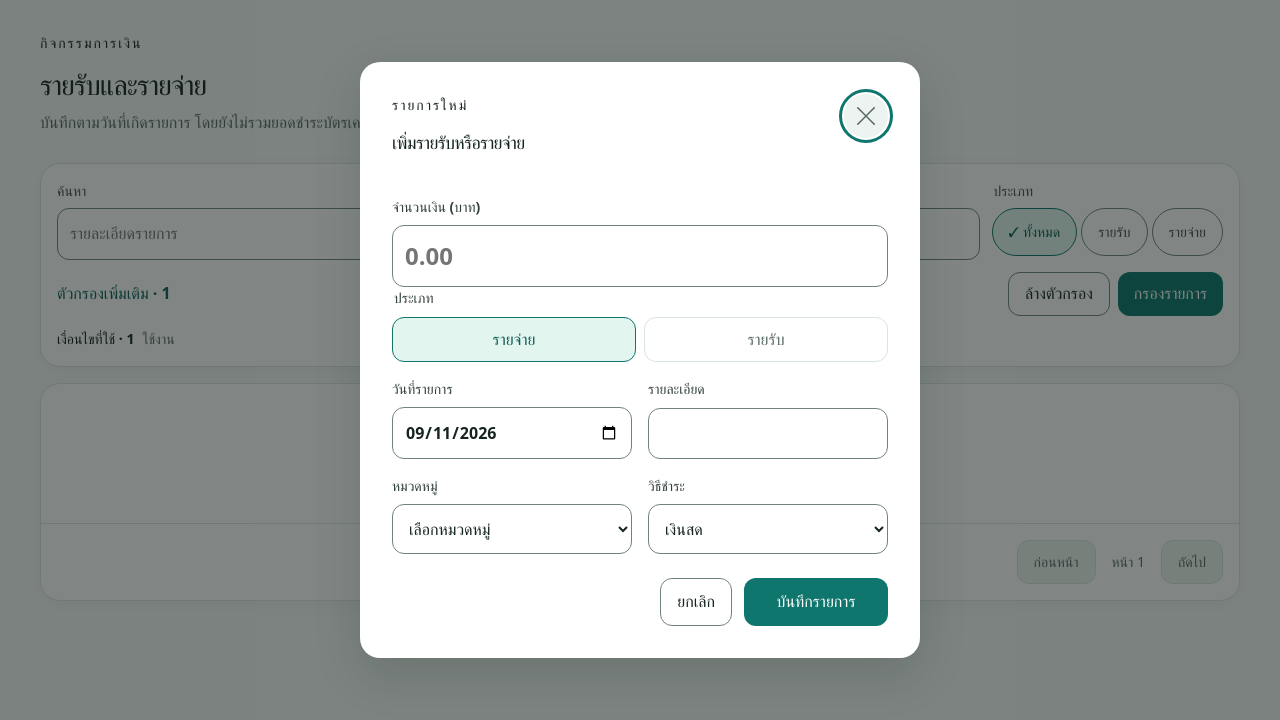
Test: finance pages › renders responsive transaction semantics and opens the focused form
Expected: the dialog "เพิ่มรายรับหรือรายจ่าย" is shown, [360, 62, 920, 658]
Select "บัตรเครดิต" in the dropdown labelled "วิธีชำระ" at [768, 529], box [648, 504, 888, 554]
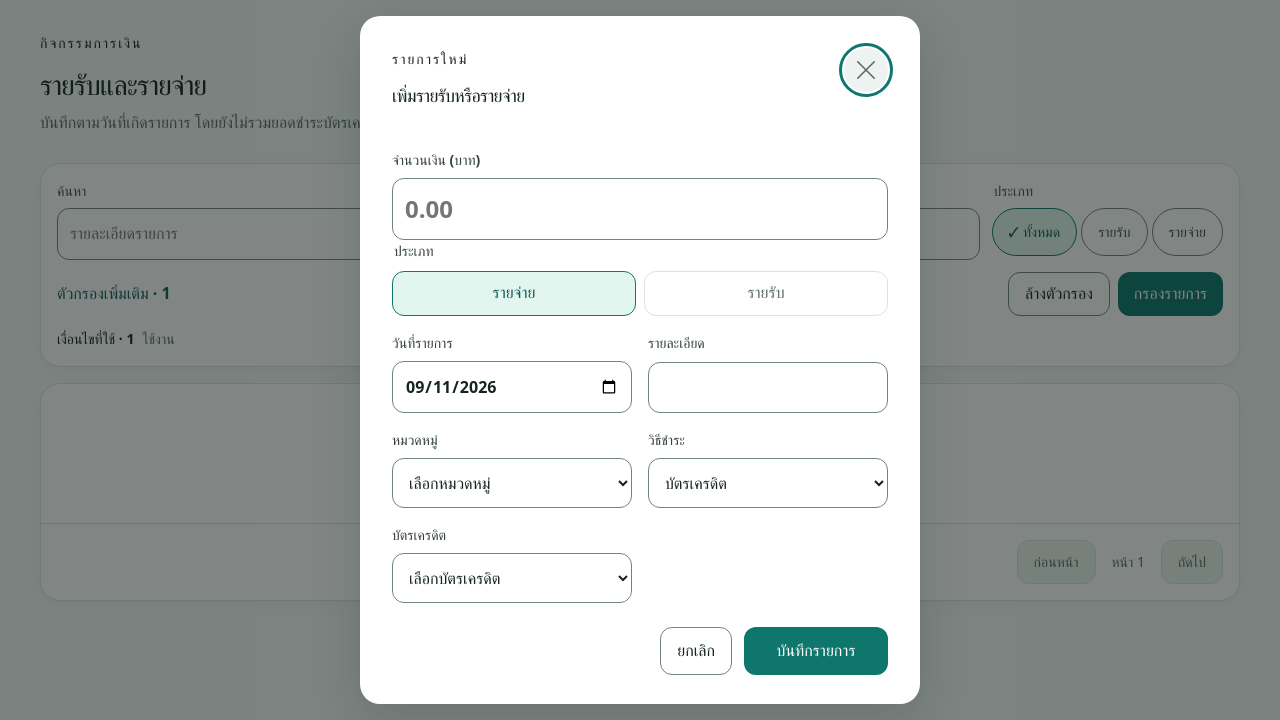
Expected: the number of fields labelled "บัตรเครดิต" is 2
